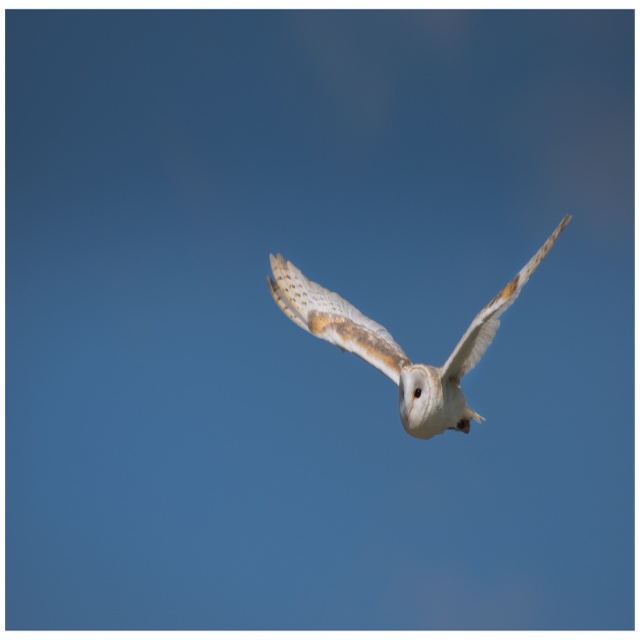Owl: (266, 213, 574, 444)
